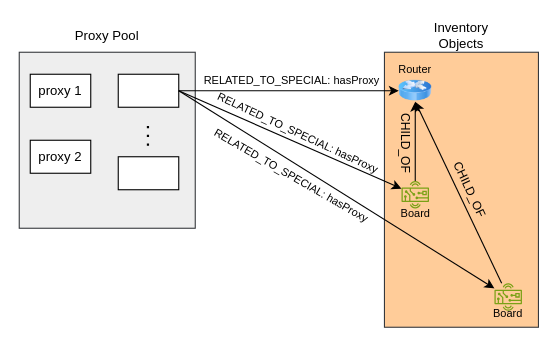
The diagram is 558 pixels wide and 347 high, and some of its shapes have lost their labels. The centre of each missing label's shape, as x and y in pixels:
"proxy 3" belongs at point (148, 90).
"proxy n" belongs at point (148, 173).
